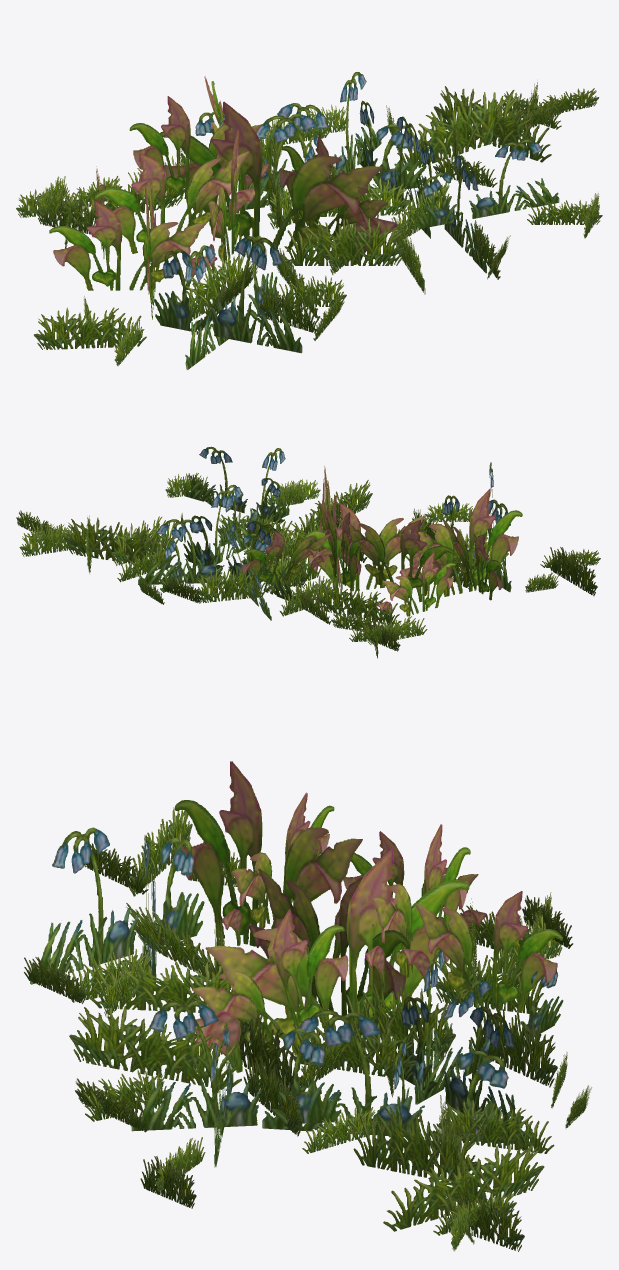
Rendered from DN_grass04d.FBX.
The picture shows the model from 3 angles, top to bottom: view 1: azimuth 30°, elevation 25°; view 2: azimuth 150°, elevation 25°; view 3: azimuth 270°, elevation 25°; orthographic projection. The views are drawn at different scales.
Parts seen in each view (by area): view 1: DN_grass04d; view 2: DN_grass04d; view 3: DN_grass04d.
Boxes of the visible parts, x1,y1,x2,y2 form: DN_grass04d: [16, 72, 602, 369]; DN_grass04d: [16, 446, 600, 658]; DN_grass04d: [24, 761, 591, 1251].
Bounding box in the file's own units: 267 × 79.16 × 157.
